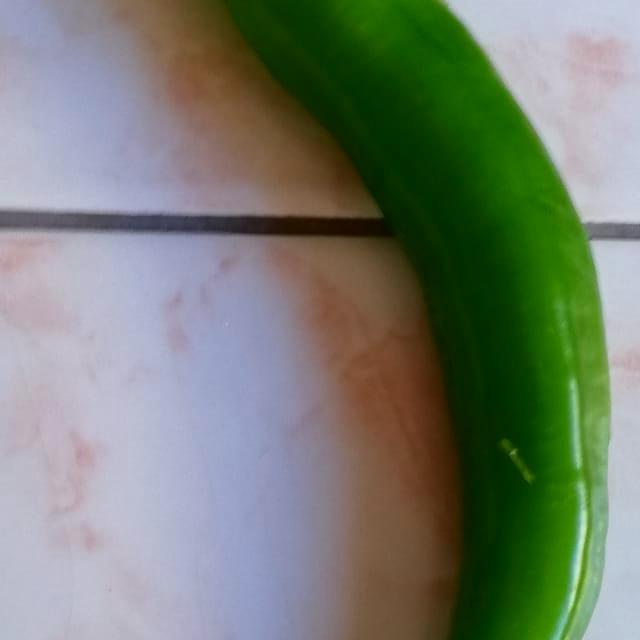chili_pepper: (132, 0, 632, 640)
